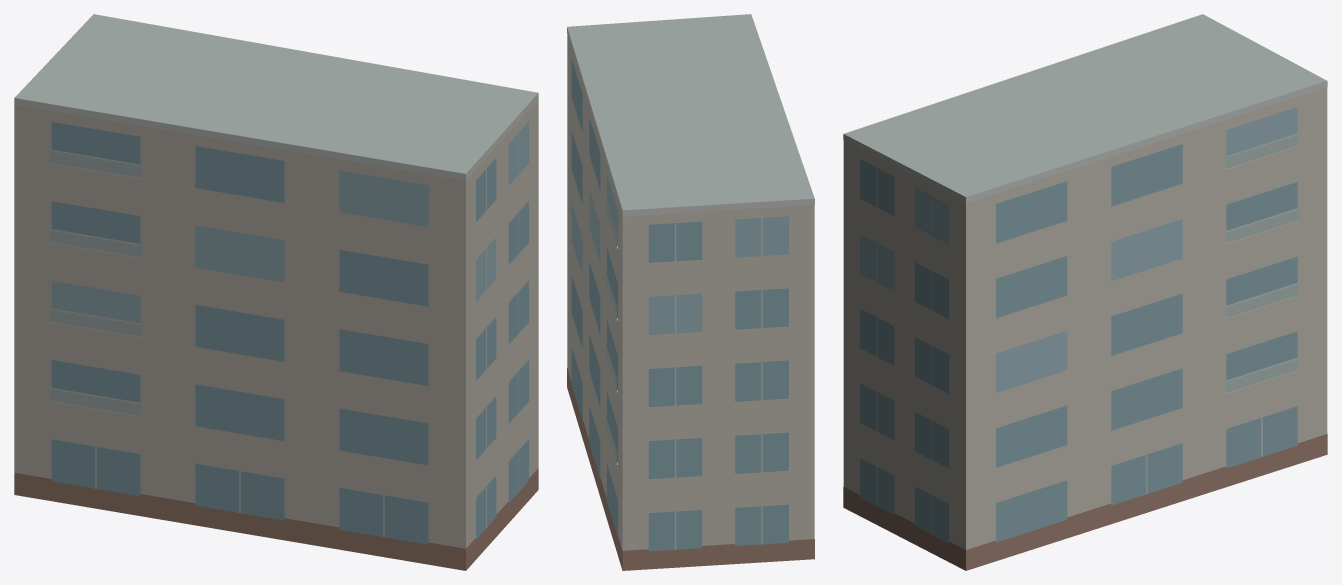
File: survey-upis-32702087.glb
3 renders of one model, left to right at view 1: azimuth 30°, elevation 25°; view 2: azimuth 150°, elevation 25°; view 3: azimuth 270°, elevation 25°, orthographic. The views are drawn at different scales.
Parts seen in each view (by area): view 1: survey-upis-32702087.tmp; view 2: survey-upis-32702087.tmp; view 3: survey-upis-32702087.tmp.
Boxes of the visible parts, bbox=[...] form: survey-upis-32702087.tmp: bbox=[14, 14, 538, 570]; survey-upis-32702087.tmp: bbox=[567, 14, 814, 570]; survey-upis-32702087.tmp: bbox=[843, 14, 1327, 570].
Size of the model in its own units: 15.14 by 14.4 by 16.91.
